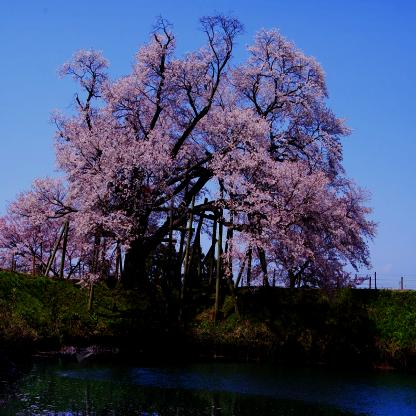Someiyoshino: (54, 29, 374, 296), (2, 176, 61, 275)
